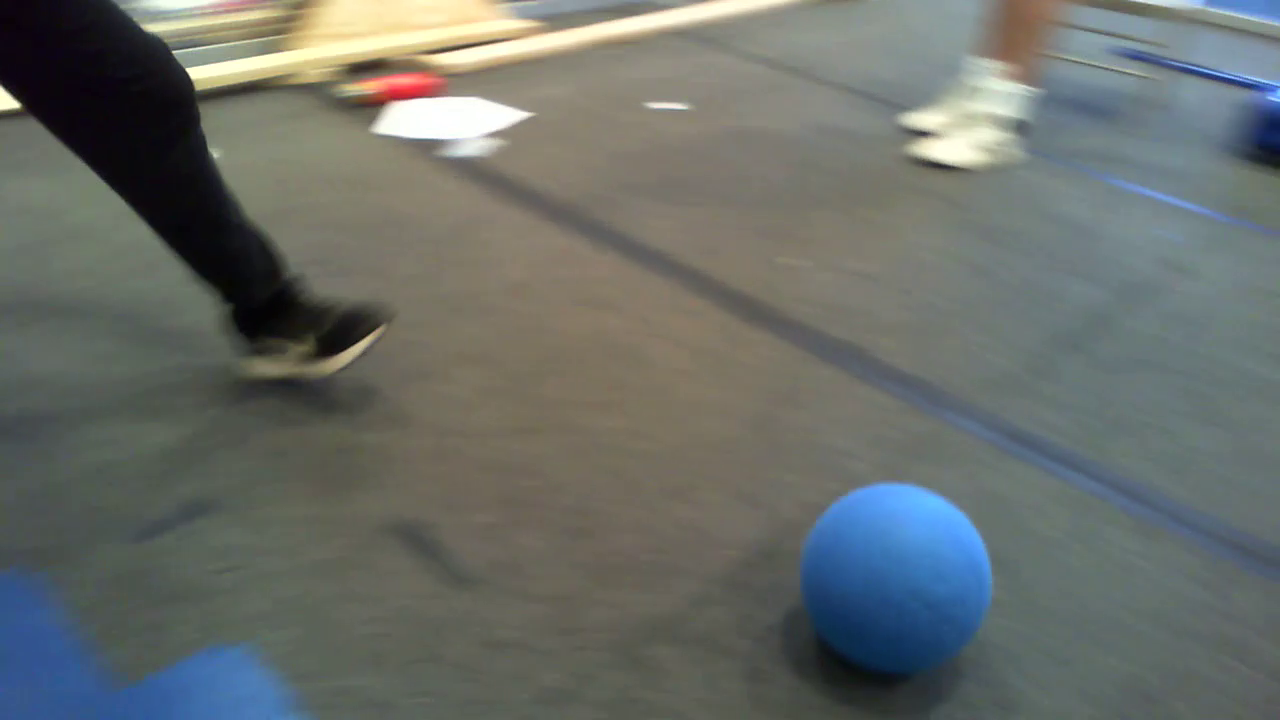blue_cargo: (795, 474, 1001, 677)
